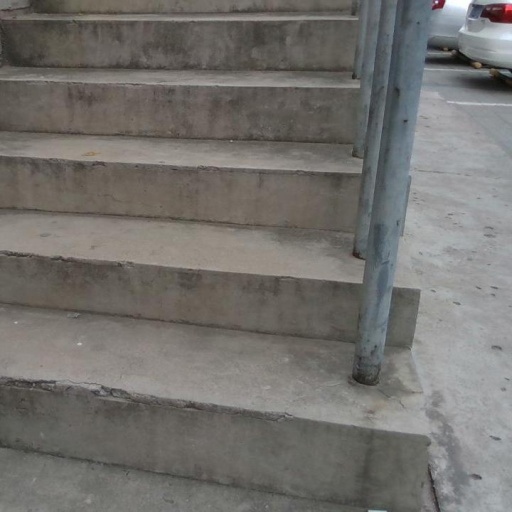Stairs: (0, 0, 429, 512)
